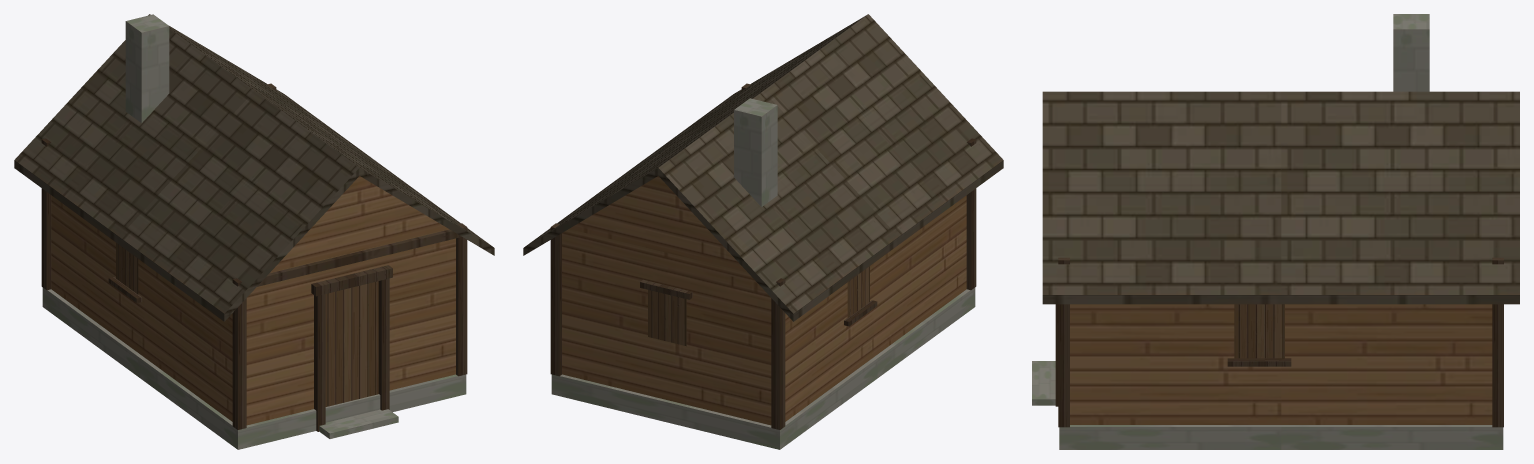
File: ae_forest_wood_medium_block_lod0.glb
3 views of the same model, side by side, from view 1: azimuth 30°, elevation 25°; view 2: azimuth 150°, elevation 25°; view 3: azimuth 270°, elevation 25° (orthographic). The views are drawn at different scales.
Parts seen in each view (by area): view 1: ae_forest_wood_medium_block_lod0; view 2: ae_forest_wood_medium_block_lod0; view 3: ae_forest_wood_medium_block_lod0.
Boxes of the visible parts, box(x1,y1,x2,y2) form: ae_forest_wood_medium_block_lod0: box(14, 14, 494, 449); ae_forest_wood_medium_block_lod0: box(523, 14, 1003, 449); ae_forest_wood_medium_block_lod0: box(1032, 14, 1519, 449).
Size of the model in its own units: 4.9 by 5.15 by 6.74.
1 material, 1 textured.
